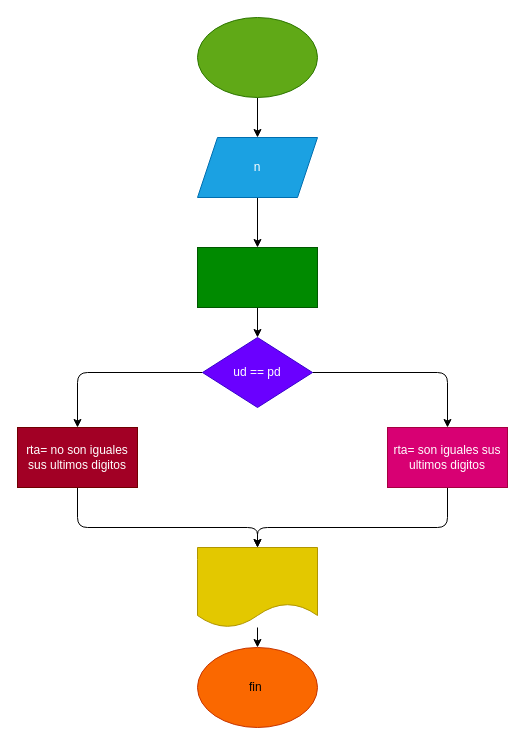
The diagram is 525 pixels wide and 745 high, and some of its shapes have lost their labels. Here are the shapes that lost their labels. From the top down, the centre of each, then its label:
pixel 257 57: inico
pixel 257 277: ud= n%10 pd= (n%100)//10
pixel 257 587: rta
